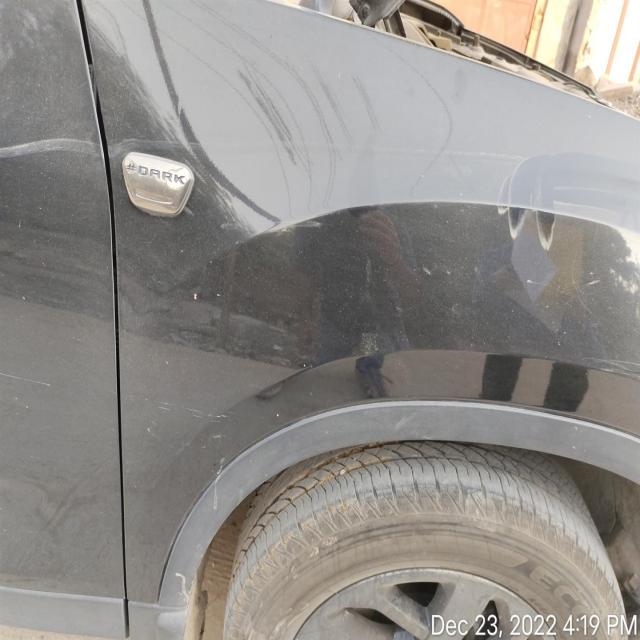damage: (211, 169, 356, 282), (296, 209, 305, 274)
